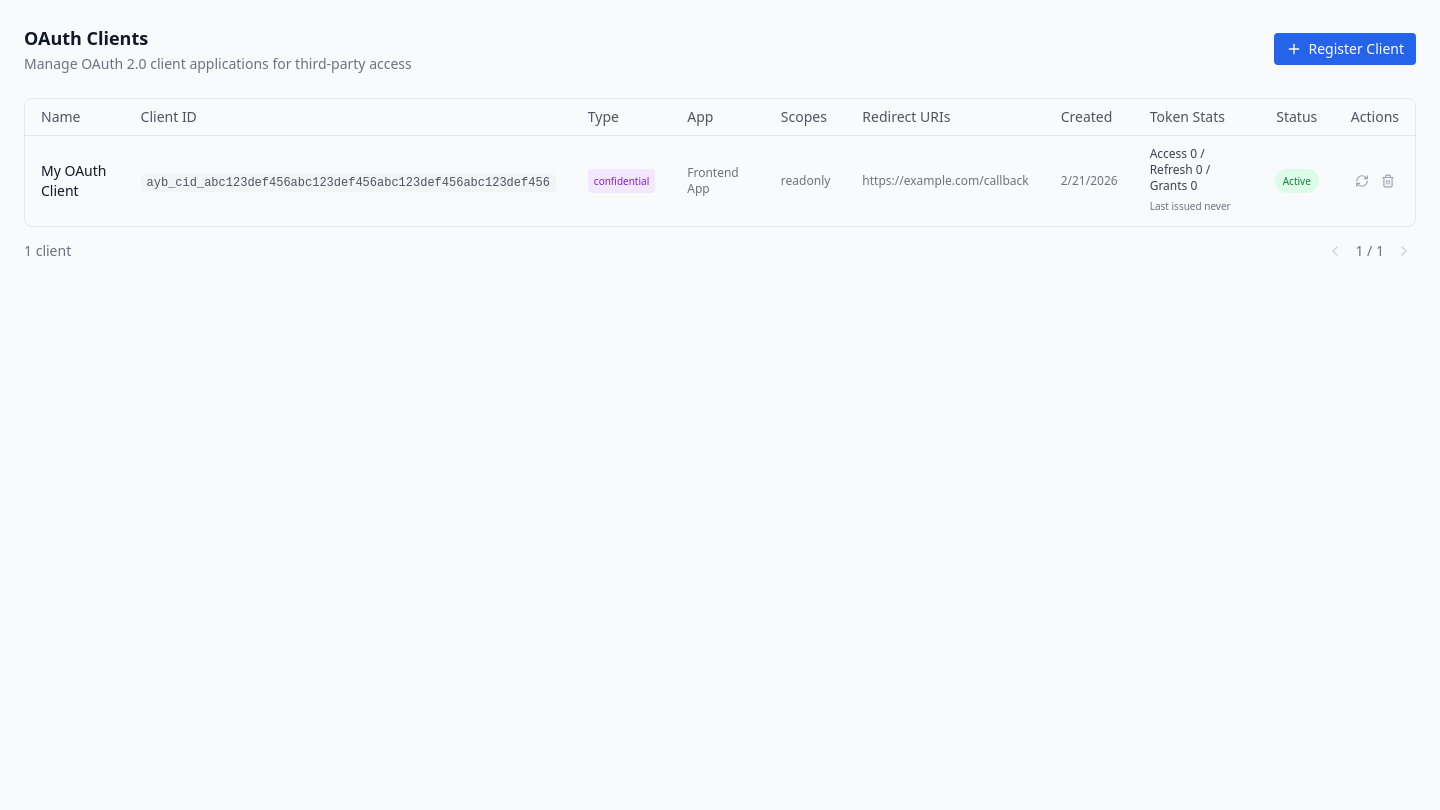
OAuthClients › revoke button opens confirmation dialog
Expected: the text "My OAuth Client" is shown, [41, 161, 106, 200]
Click the button titled "Revoke client": [1388, 181] box [1377, 170, 1399, 192]
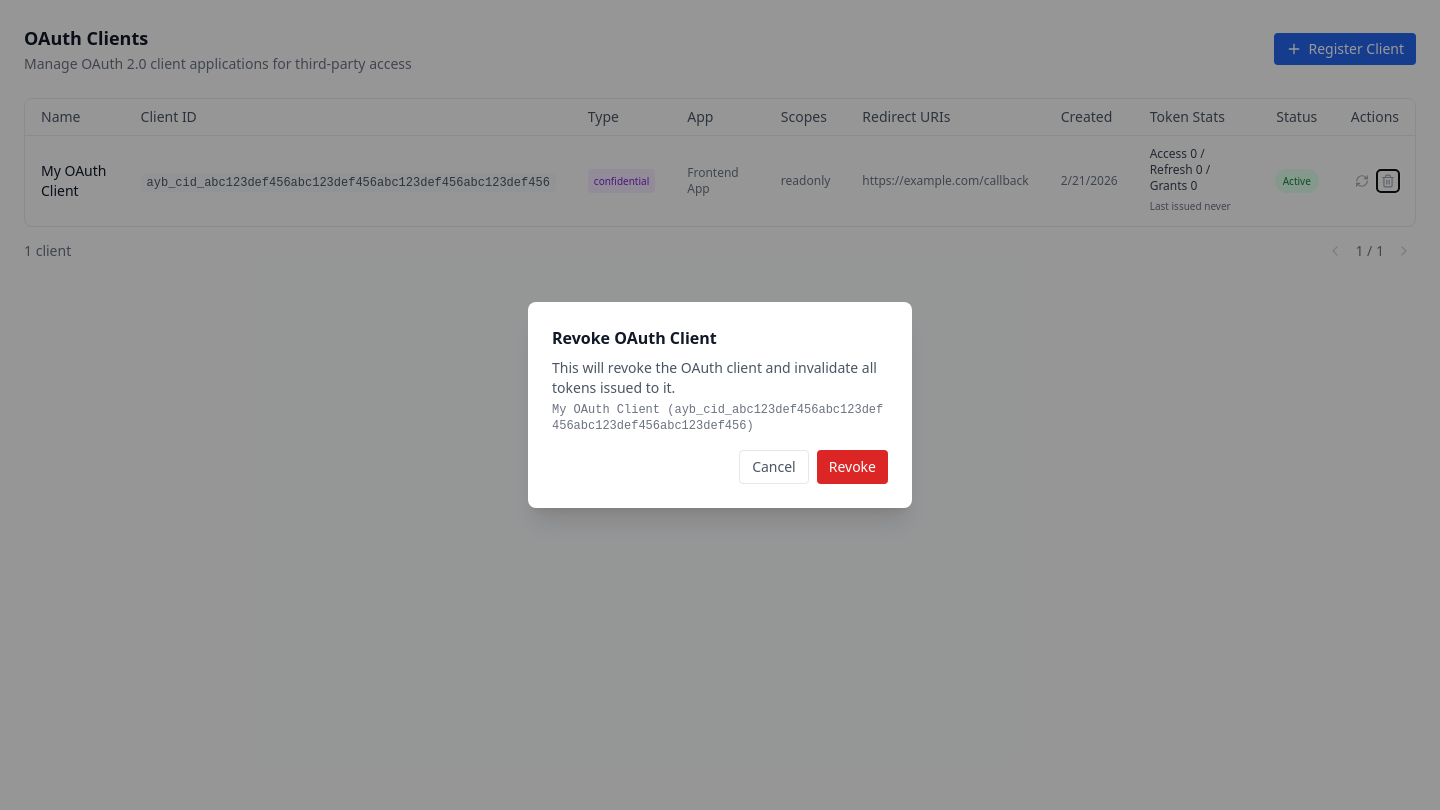
Result: the heading "Revoke OAuth Client" is shown at [552, 327, 717, 349]
Result: the text "This will revoke the OAuth client and invalidate all tokens" is shown at [552, 358, 877, 397]
